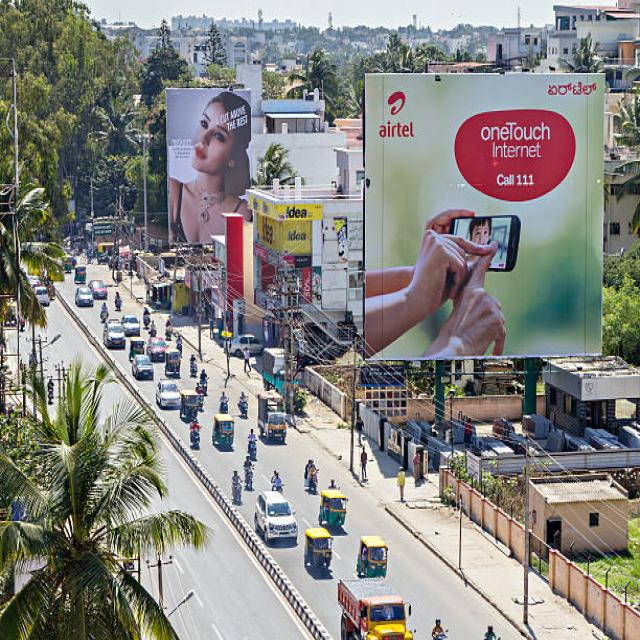Werbetafel frei: (363, 73, 604, 361), (167, 88, 253, 246)
